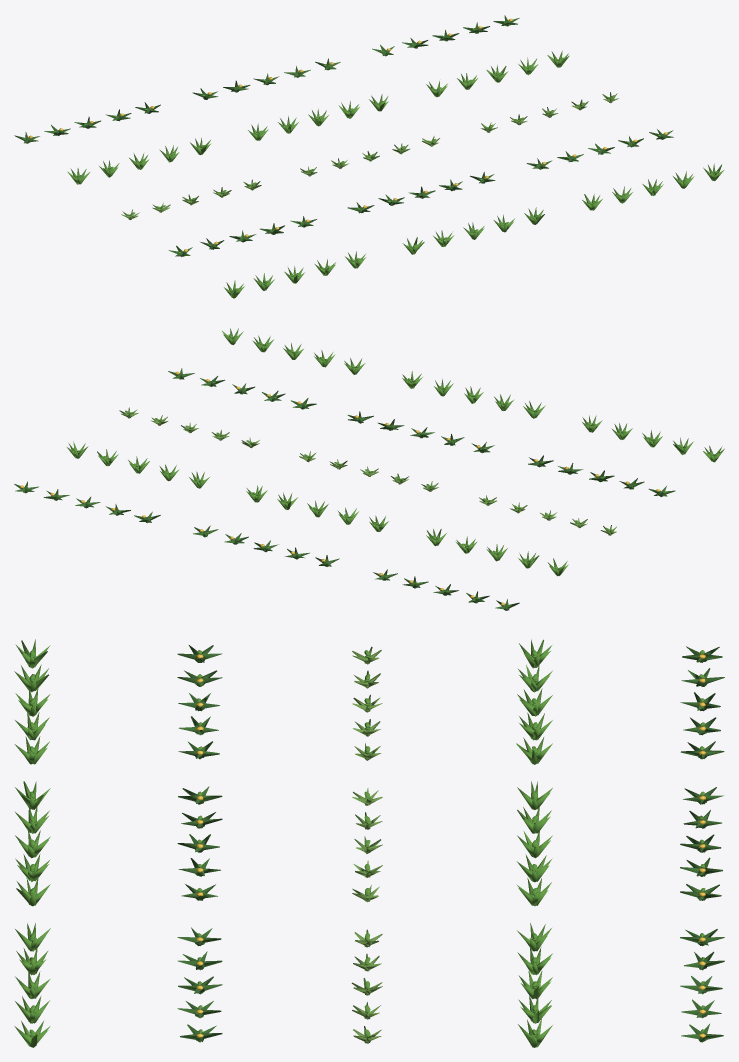
File: crops-thu.glb
3 views of the same model, one above another, from view 1: azimuth 30°, elevation 25°; view 2: azimuth 150°, elevation 25°; view 3: azimuth 270°, elevation 25° (orthographic). The views are drawn at different scales.
Visible parts, largest first — view 1: crop-b5-young, crop-b14-young, crop-b12-young, crop-b4-young, crop-b13-young, crop-b3-young, crop-b2-young, crop-b0-young, crop-b10-young, crop-b9-young, crop-b11-young, crop-b1-young; view 2: crop-b12-young, crop-b5-young, crop-b3-young, crop-b13-young, crop-b4-young, crop-b14-young, crop-b9-young, crop-b11-young, crop-b1-young, crop-b10-young, crop-b0-young, crop-b2-young; view 3: crop-b13-young, crop-b3-young, crop-b4-young, crop-b5-young, crop-b12-young, crop-b14-young, crop-b1-young, crop-b0-young, crop-b11-young, crop-b9-young, crop-b2-young, crop-b10-young (+3 smaller).
Boxes of the visible parts, x1,y1,x2,y2 form: crop-b5-young: (426,50,569,97); crop-b14-young: (582,163,724,210); crop-b12-young: (224,251,366,298); crop-b4-young: (248,94,388,140); crop-b13-young: (402,207,544,254); crop-b3-young: (67,137,211,184); crop-b2-young: (372,15,519,56); crop-b0-young: (14,102,160,143); crop-b10-young: (347,172,495,213); crop-b9-young: (168,216,316,256); crop-b11-young: (526,129,673,169); crop-b1-young: (192,58,340,99); crop-b12-young: (582,415,724,462); crop-b5-young: (67,441,209,488); crop-b3-young: (426,529,568,576); crop-b13-young: (402,371,545,418); crop-b4-young: (246,485,388,531); crop-b14-young: (222,328,365,374); crop-b9-young: (528,455,675,496); crop-b11-young: (168,368,316,409); crop-b1-young: (193,525,339,566); crop-b10-young: (347,411,494,452); crop-b0-young: (373,569,519,610); crop-b2-young: (14,481,160,522); crop-b13-young: (15,781,50,906); crop-b3-young: (516,639,552,764); crop-b4-young: (516,781,552,906); crop-b5-young: (517,923,552,1047); crop-b12-young: (14,639,50,764); crop-b14-young: (14,923,50,1047); crop-b1-young: (680,787,723,900); crop-b0-young: (680,646,724,758); crop-b11-young: (177,927,222,1041); crop-b9-young: (177,645,222,758); crop-b2-young: (680,929,724,1041); crop-b10-young: (177,786,222,900).
Size of the model in its own units: 2.81 by 0.0688 by 2.12.
